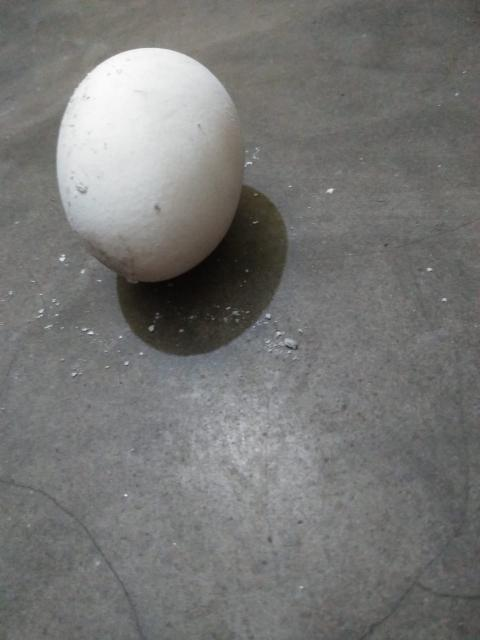Sano: (57, 46, 244, 281)
